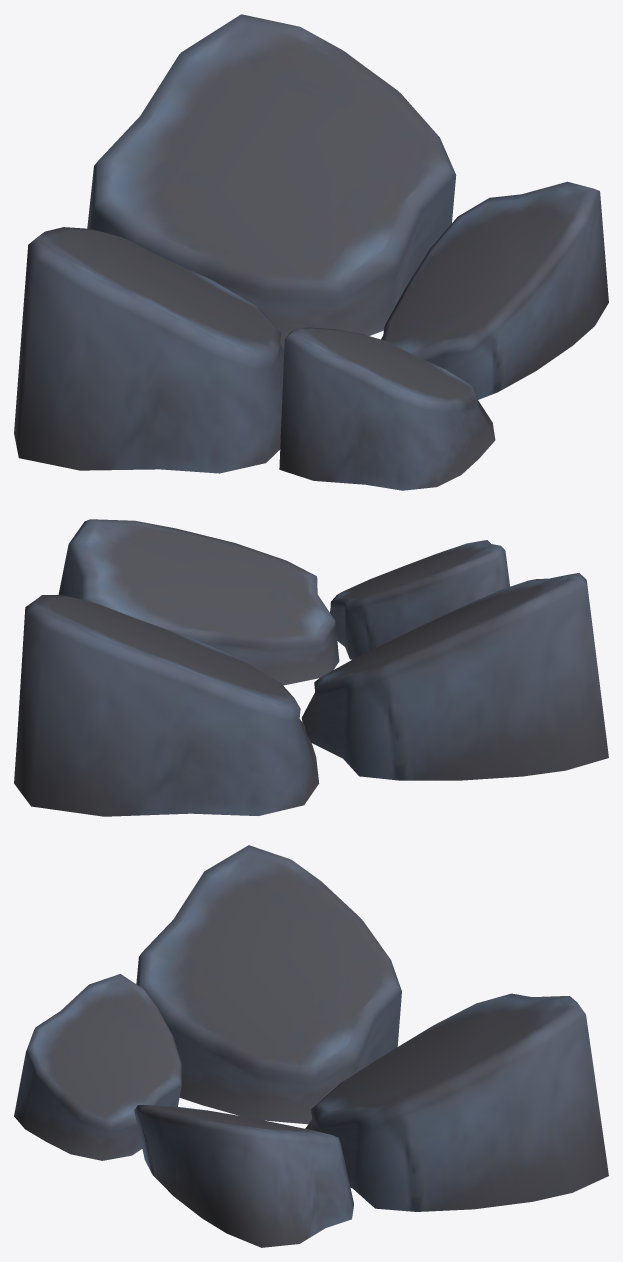
Rendered from rock_5.fbx.
The picture shows the model from 3 angles, top to bottom: view 1: azimuth 30°, elevation 25°; view 2: azimuth 150°, elevation 25°; view 3: azimuth 270°, elevation 25°; orthographic projection. The views are drawn at different scales.
Visible parts, largest first — view 1: rock_5; view 2: rock_5; view 3: rock_5.
Boxes of the visible parts, left/top/right/bottom form: rock_5: left=14, top=14, right=608, bottom=490; rock_5: left=14, top=519, right=608, bottom=816; rock_5: left=14, top=845, right=608, bottom=1247.
Size of the model in its own units: 87.57 by 27.19 by 88.42.
